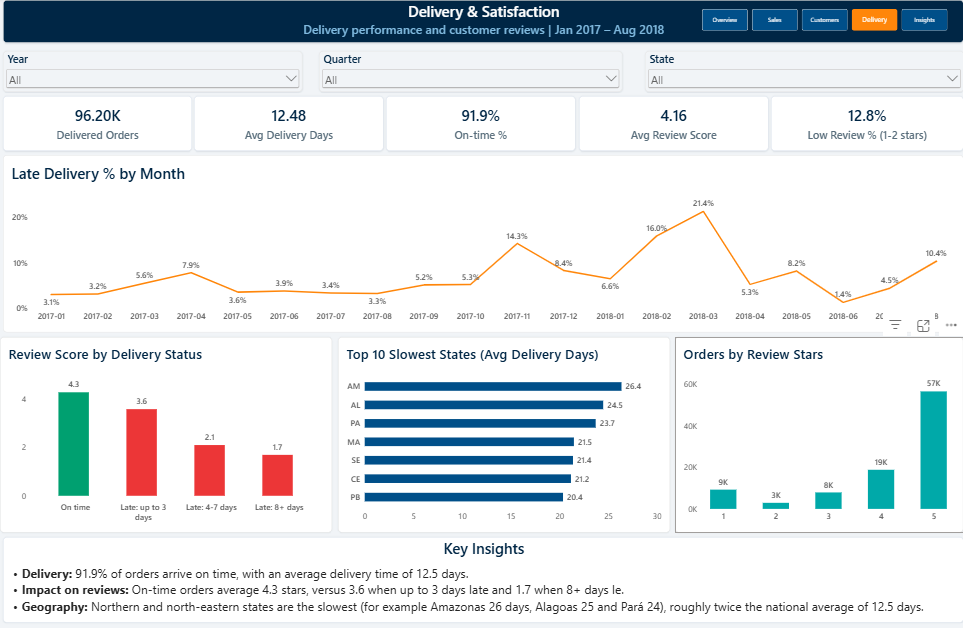

This screenshot's page, from the dashboard's own definition file:
{"tool":"powerbi","page":{"name":"Delivery","canvas":[1920,1250],"ordinal":3},"visuals":[{"type":"textbox","title":"Delivery & Satisfaction","box":[6.1,4,1905.9,84.9],"z":0},{"type":"slicer","fields":{"Values":["Dim_Date.Year"]},"box":[6.1,105.1,594.2,80.8],"z":1000},{"type":"slicer","fields":{"Values":["Dim_Date.Quarter"]},"box":[632.6,105.1,602.3,80.8],"z":2000},{"type":"slicer","fields":{"Values":["Fact_Orders.customer_state"]},"box":[1279.3,105.1,632.6,80.8],"z":3000},{"type":"card","fields":{"Values":["_Measures.Delivered Orders"]},"box":[6.1,194,375,109.1],"z":4000},{"type":"card","fields":{"Values":["_Measures.Avg Delivery Days"]},"box":[384,194,375.9,109.1],"z":5000},{"type":"card","fields":{"Values":["_Measures.On-time %"]},"box":[766,194,375.9,109.1],"z":6000},{"type":"card","fields":{"Values":["_Measures.Avg Review Score"]},"box":[1148,194,375.9,109.1],"z":7000},{"type":"card","fields":{"Values":["_Measures.Low Review %"]},"box":[1529.9,194,382,109.1],"z":8000},{"type":"clusteredColumnChart","title":"Review Score by Delivery Status","fields":{"Category":["Fact_Orders.Delivery Status"],"Y":["_Measures.Avg Review Score"]},"box":[0,673,658.9,388],"z":9000},{"type":"lineChart","title":"Late Delivery % by Month","fields":{"Category":["Dim_Date.Year-Month"],"Y":["_Measures.Late Delivery %"]},"box":[6.1,311.2,1905.9,351.7],"z":10000},{"type":"clusteredBarChart","title":"Slowest States (100+ orders)","fields":{"Category":["Fact_Orders.customer_state"],"Y":["_Measures.Avg Delivery Days"]},"box":[671,673,658.9,388],"z":11000},{"type":"clusteredColumnChart","title":"Orders by Review Stars","fields":{"Category":["Fact_Orders.Review Stars"],"Y":["_Measures.Delivered Orders"]},"box":[1340,673,572,388],"z":12000},{"type":"textbox","title":"Key Insights","box":[6.1,1069.1,1905.9,169.8],"z":13000},{"type":"pageNavigator","box":[1392.9,21.8,490.1,43.7],"z":13001}]}

Visuals, with their boxes in screenshot pixels (x1, y1, x2, y2), scaled from the page's 1920x1250 canvas onto the 963x633 screenshot:
"Delivery & Satisfaction" textbox: bbox=[3, 2, 959, 45]
slicer - Dim_Date.Year: bbox=[3, 53, 301, 94]
slicer - Dim_Date.Quarter: bbox=[317, 53, 619, 94]
slicer - Fact_Orders.customer_state: bbox=[642, 53, 959, 94]
card - _Measures.Delivered Orders: bbox=[3, 98, 191, 153]
card - _Measures.Avg Delivery Days: bbox=[193, 98, 381, 153]
card - _Measures.On-time %: bbox=[384, 98, 573, 153]
card - _Measures.Avg Review Score: bbox=[576, 98, 764, 153]
card - _Measures.Low Review %: bbox=[767, 98, 959, 153]
"Review Score by Delivery Status" clusteredColumnChart: bbox=[0, 341, 330, 537]
"Late Delivery % by Month" lineChart: bbox=[3, 158, 959, 336]
"Slowest States (100+ orders)" clusteredBarChart: bbox=[337, 341, 667, 537]
"Orders by Review Stars" clusteredColumnChart: bbox=[672, 341, 959, 537]
"Key Insights" textbox: bbox=[3, 541, 959, 627]
pageNavigator: bbox=[699, 11, 944, 33]
